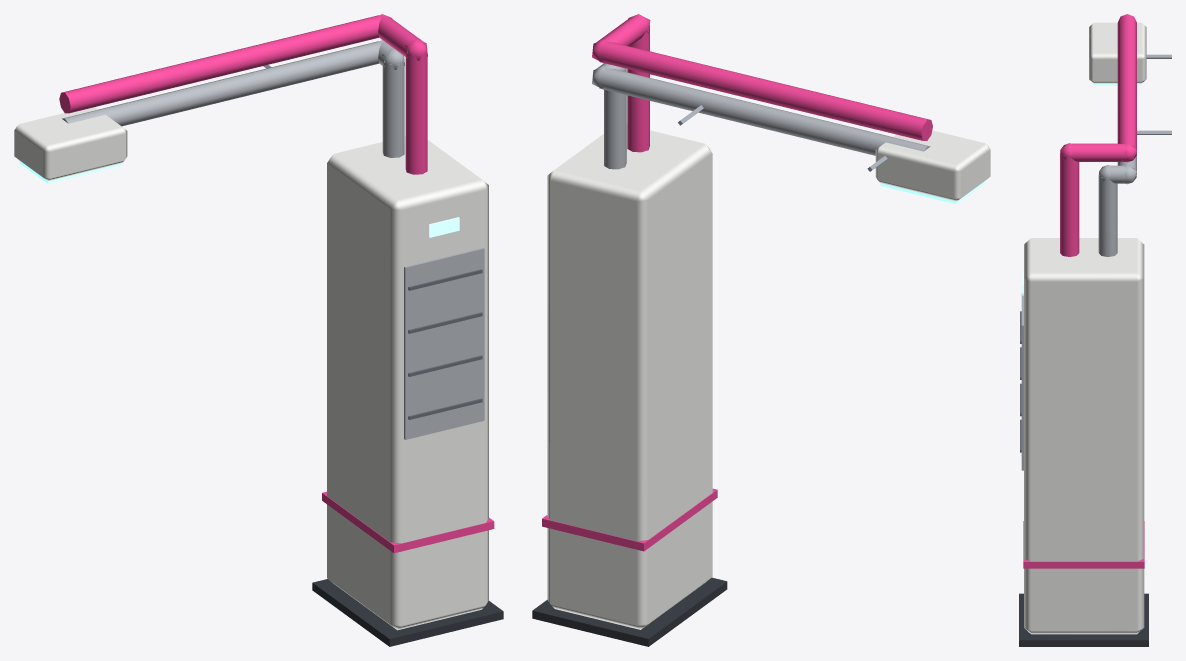
File: station_transport_ausstattung_3_3.glb
The picture shows the model from 3 angles, left to right: view 1: azimuth 30°, elevation 25°; view 2: azimuth 150°, elevation 25°; view 3: azimuth 270°, elevation 25°; orthographic projection. The views are drawn at different scales.
Parts seen in each view (by area): view 1: station_transport_ausstattung_3_3; view 2: station_transport_ausstattung_3_3; view 3: station_transport_ausstattung_3_3.
Part boxes in pixels (box(x1,y1,x2,y2)): station_transport_ausstattung_3_3: box(14, 14, 503, 646); station_transport_ausstattung_3_3: box(532, 14, 990, 646); station_transport_ausstattung_3_3: box(1019, 14, 1171, 646).
Size of the model in its own units: 1.68 by 2.2 by 0.635.
